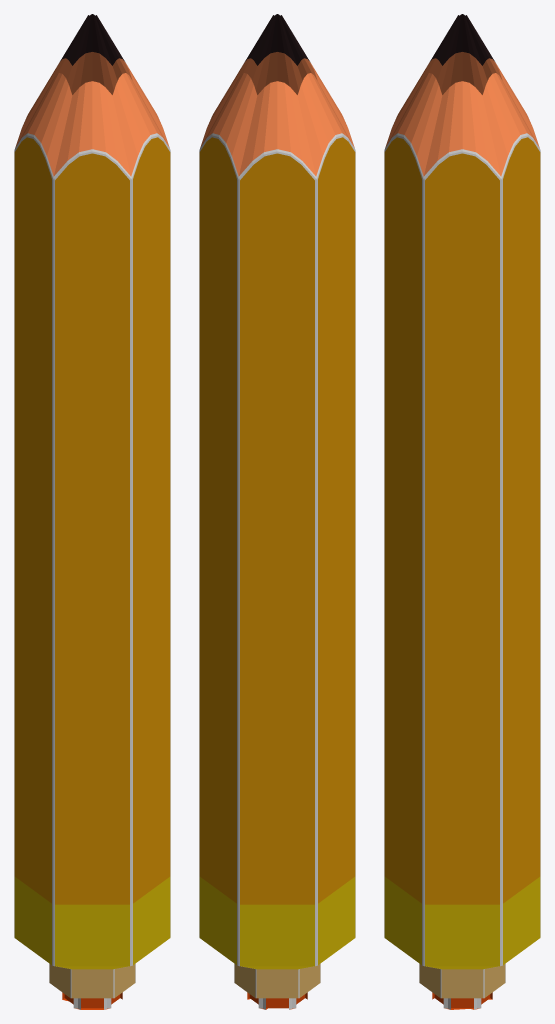
File: LapizConColor.fbx
The picture shows the model from 3 angles, left to right: view 1: azimuth 30°, elevation 25°; view 2: azimuth 150°, elevation 25°; view 3: azimuth 270°, elevation 25°; orthographic projection.
Visible parts, largest first — view 1: Circle; view 2: Circle; view 3: Circle.
Boxes of the visible parts, bbox=[...] form: Circle: bbox=[14, 14, 170, 1009]; Circle: bbox=[199, 14, 355, 1009]; Circle: bbox=[384, 14, 540, 1009].
Size of the model in its own units: 173 by 1377 by 199.
